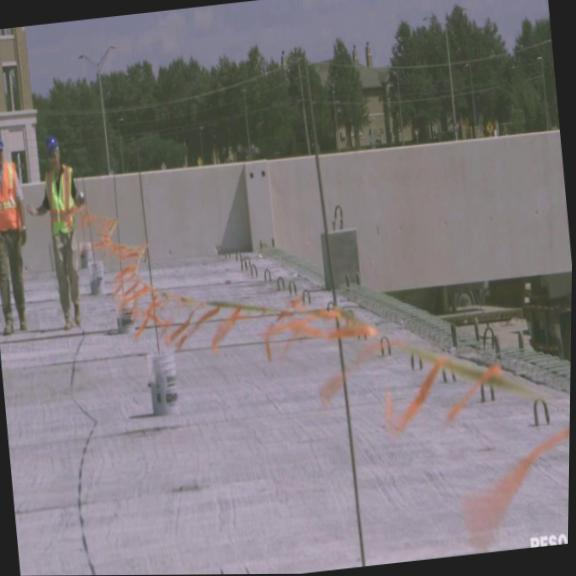safety_vest: (40, 157, 81, 239), (0, 160, 26, 232)
